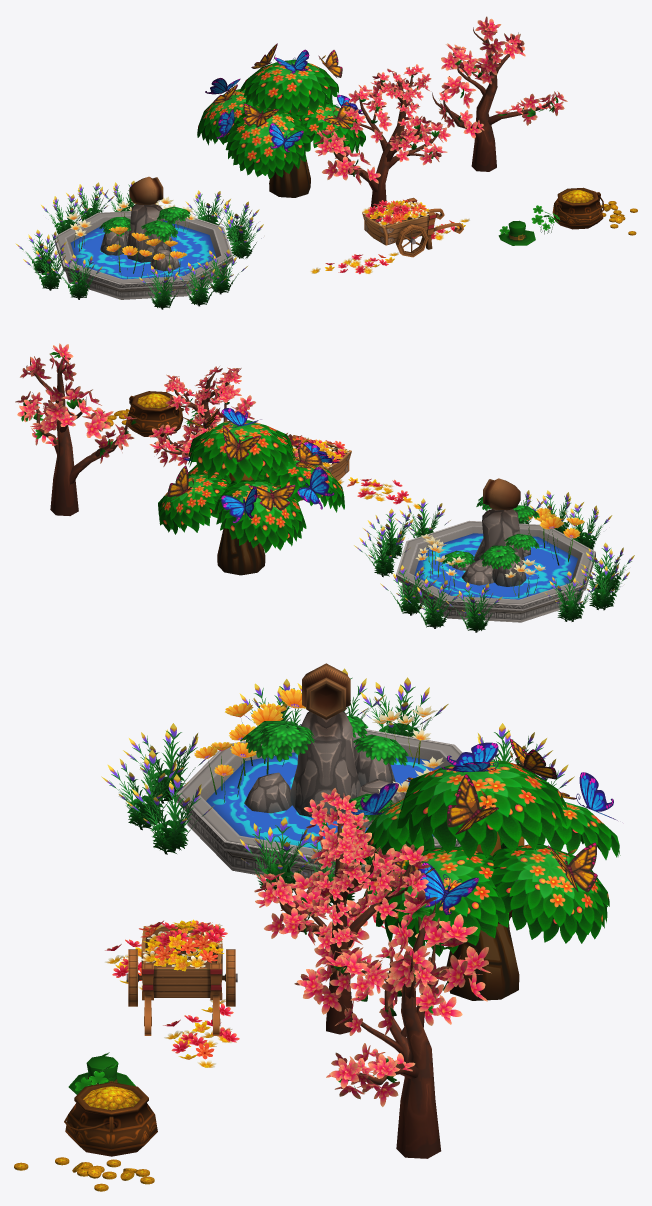
The model's file is Spring_SpecialItems.FBX.
3 views of the same model, one above another, from view 1: azimuth 30°, elevation 25°; view 2: azimuth 150°, elevation 25°; view 3: azimuth 270°, elevation 25° (orthographic). The views are drawn at different scales.
Parts seen in each view (by area): view 1: Village_Fountain, Spring_tree, Sakura_Tree_1, Sakura_Tree_2, Flower_Cart, GoldCoin_Pot, FlowerGroup_1, Green_Hat; view 2: Village_Fountain, Spring_tree, Sakura_Tree_2, Sakura_Tree_1, GoldCoin_Pot, Flower_Cart, FlowerGroup_1; view 3: Village_Fountain, Spring_tree, Sakura_Tree_1, Sakura_Tree_2, Flower_Cart, GoldCoin_Pot, Flower _Group2, SaintPatrick_GoldCoin_Group, Green_Hat.
Boxes of the visible parts, left/top/right/bottom form: Village_Fountain: left=15, top=176, right=263, bottom=309; Spring_tree: left=197, top=43, right=365, bottom=197; Sakura_Tree_1: left=314, top=64, right=450, bottom=207; Sakura_Tree_2: left=432, top=16, right=567, bottom=171; Flower_Cart: left=361, top=197, right=463, bottom=257; GoldCoin_Pot: left=552, top=187, right=604, bottom=229; FlowerGroup_1: left=309, top=252, right=398, bottom=274; Green_Hat: left=498, top=220, right=535, bottom=245; Village_Fountain: left=354, top=478, right=634, bottom=632; Spring_tree: left=158, top=408, right=344, bottom=575; Sakura_Tree_2: left=15, top=343, right=136, bottom=515; Sakura_Tree_1: left=148, top=366, right=301, bottom=466; GoldCoin_Pot: left=127, top=391, right=184, bottom=437; Flower_Cart: left=280, top=435, right=351, bottom=500; FlowerGroup_1: left=337, top=477, right=420, bottom=509; Village_Fountain: left=101, top=663, right=574, bottom=905; Spring_tree: left=344, top=738, right=620, bottom=1000; Sakura_Tree_1: left=254, top=788, right=430, bottom=1034; Sakura_Tree_2: left=326, top=890, right=491, bottom=1158; Flower_Cart: left=126, top=919, right=237, bottom=1035; GoldCoin_Pot: left=64, top=1081, right=157, bottom=1156; Flower _Group2: left=163, top=999, right=239, bottom=1067; SaintPatrick_GoldCoin_Group: left=14, top=1157, right=154, bottom=1184; Green_Hat: left=68, top=1052, right=135, bottom=1094.
Size of the model in its own units: 1209 by 318 by 682.
